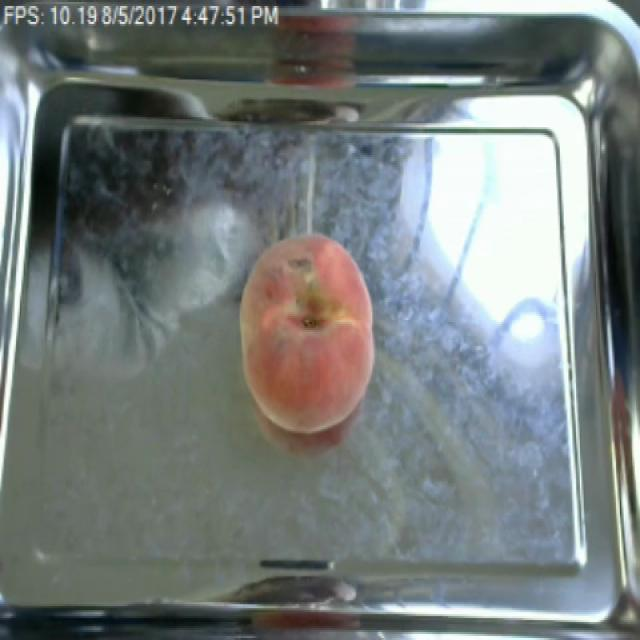Fruit: (231, 225, 384, 439)
